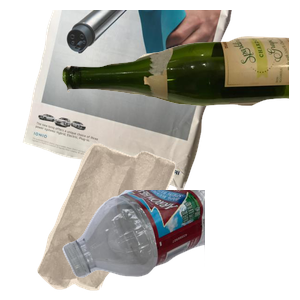glass: (60, 34, 300, 133)
paper: (20, 10, 244, 190)
plastic: (60, 190, 300, 280)
trash: (35, 140, 203, 300)
